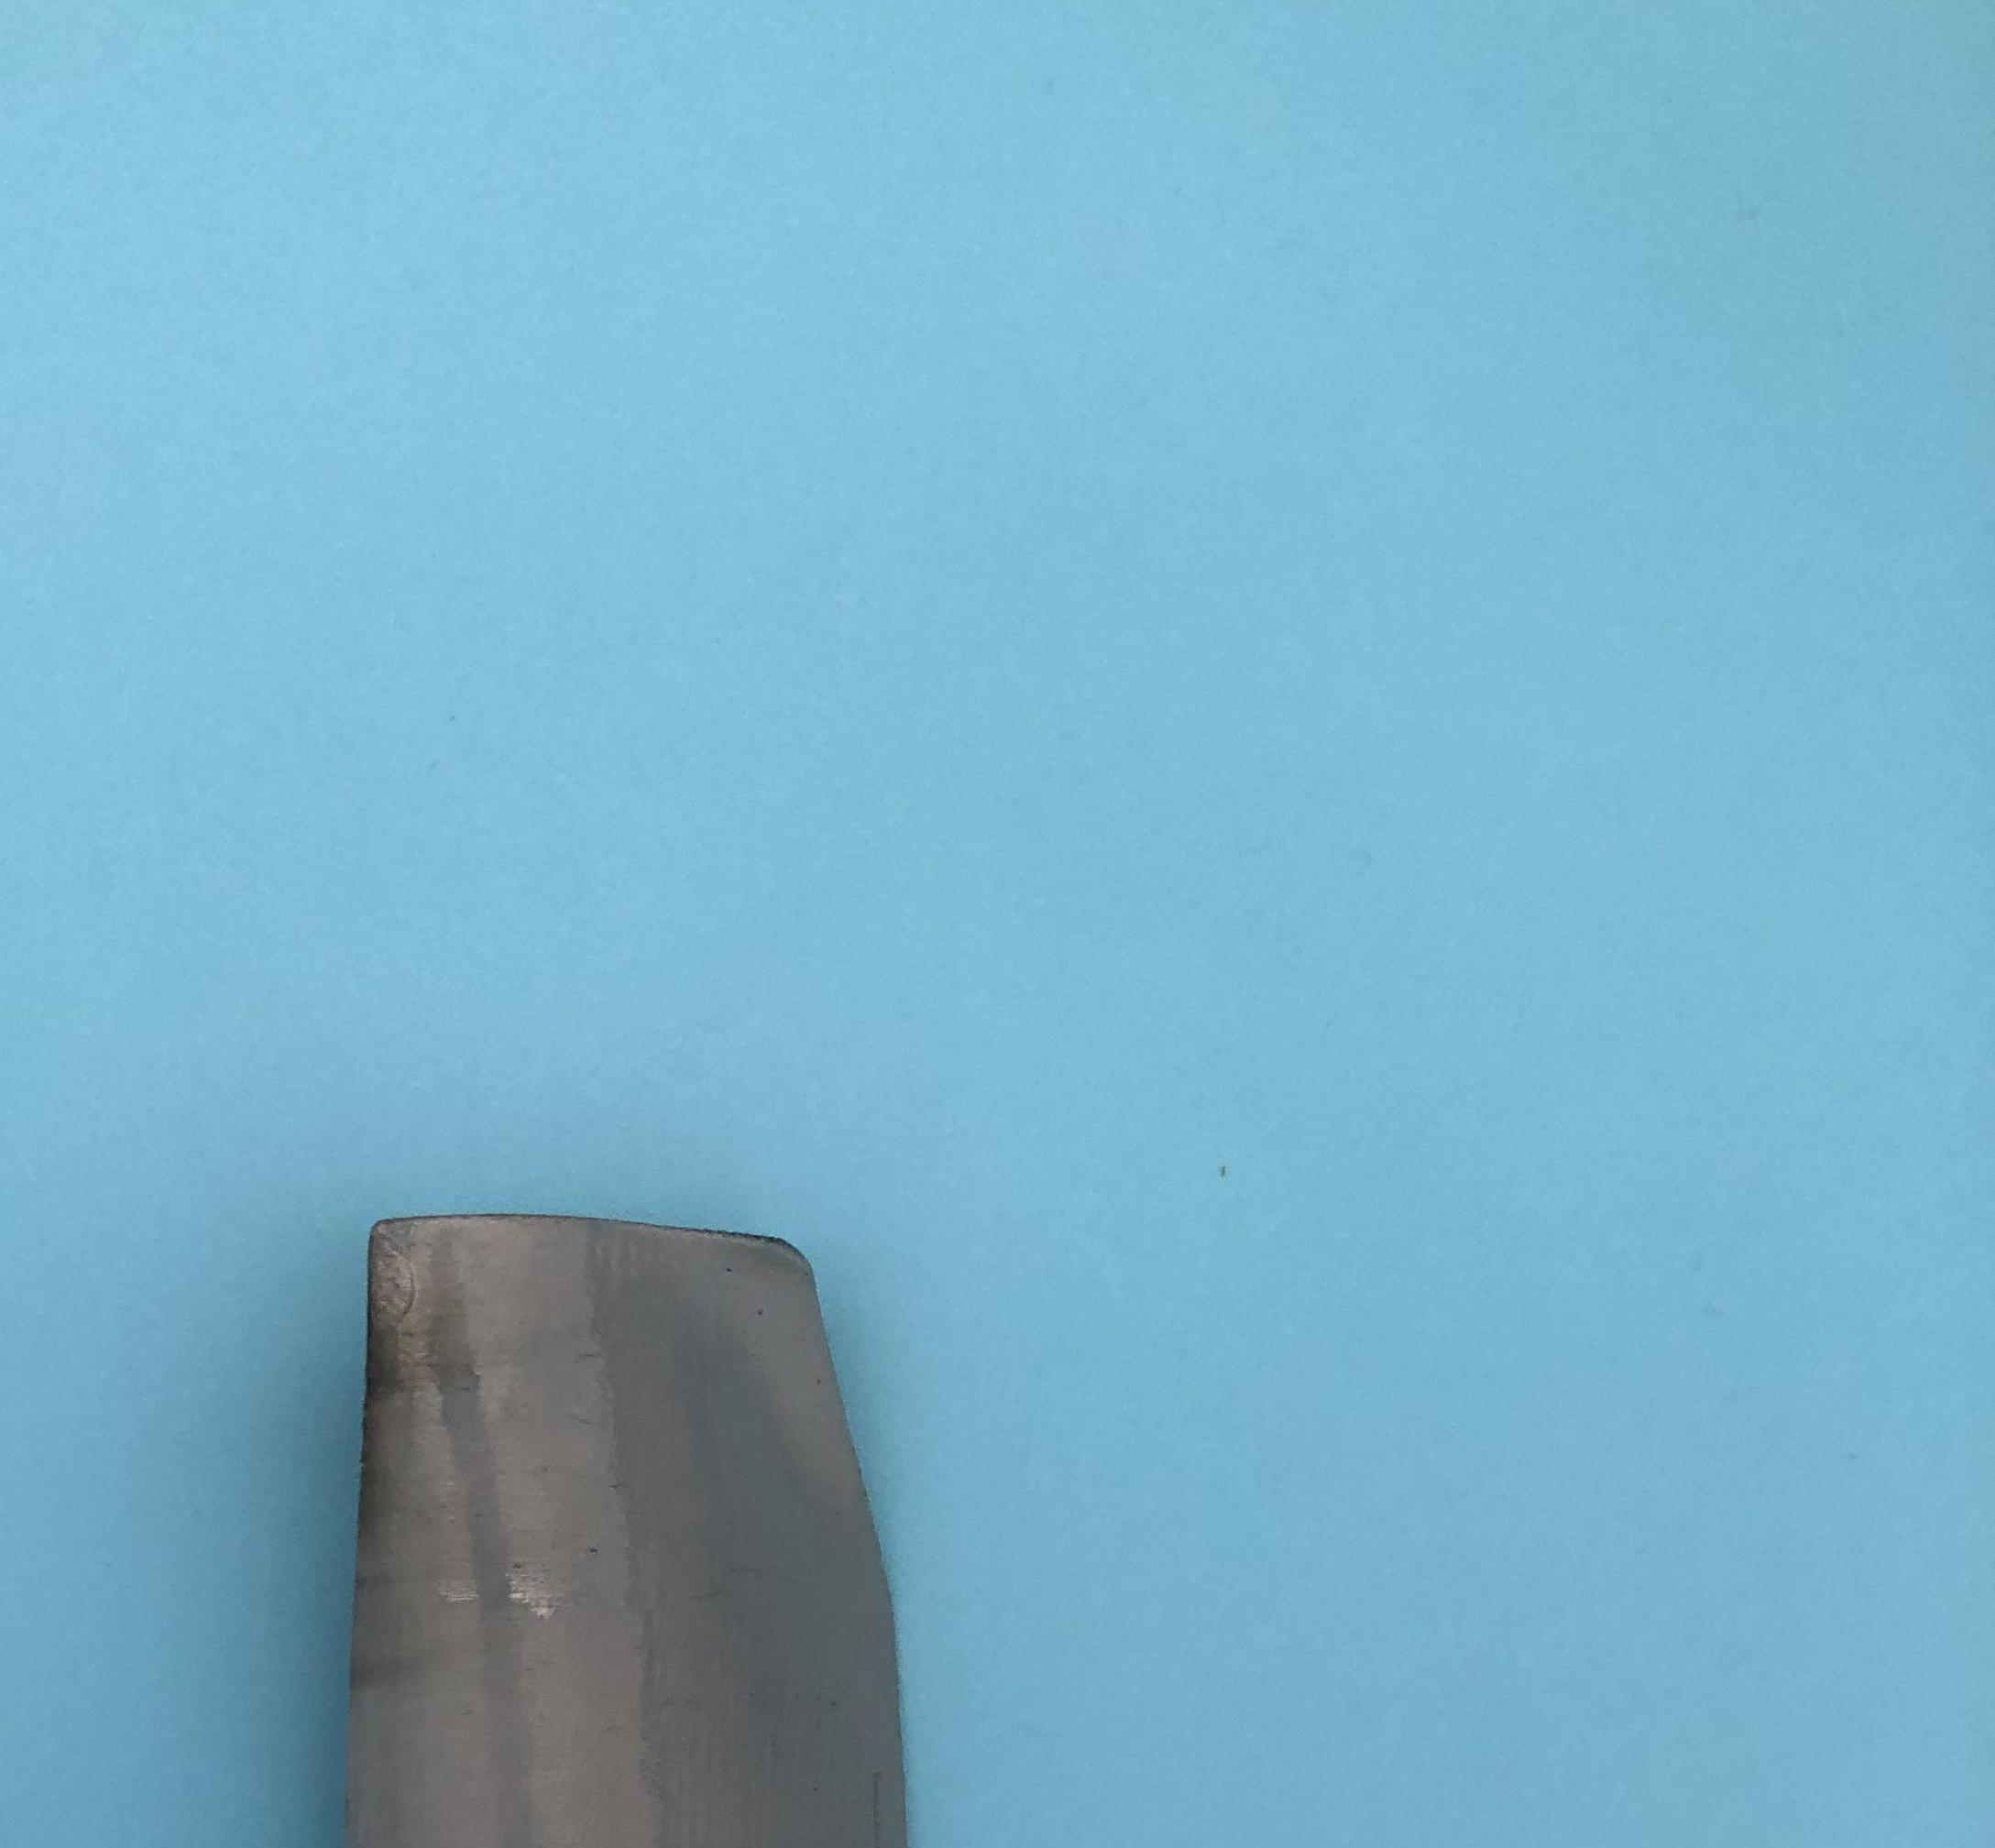ablation: (351, 1247, 447, 1657)
